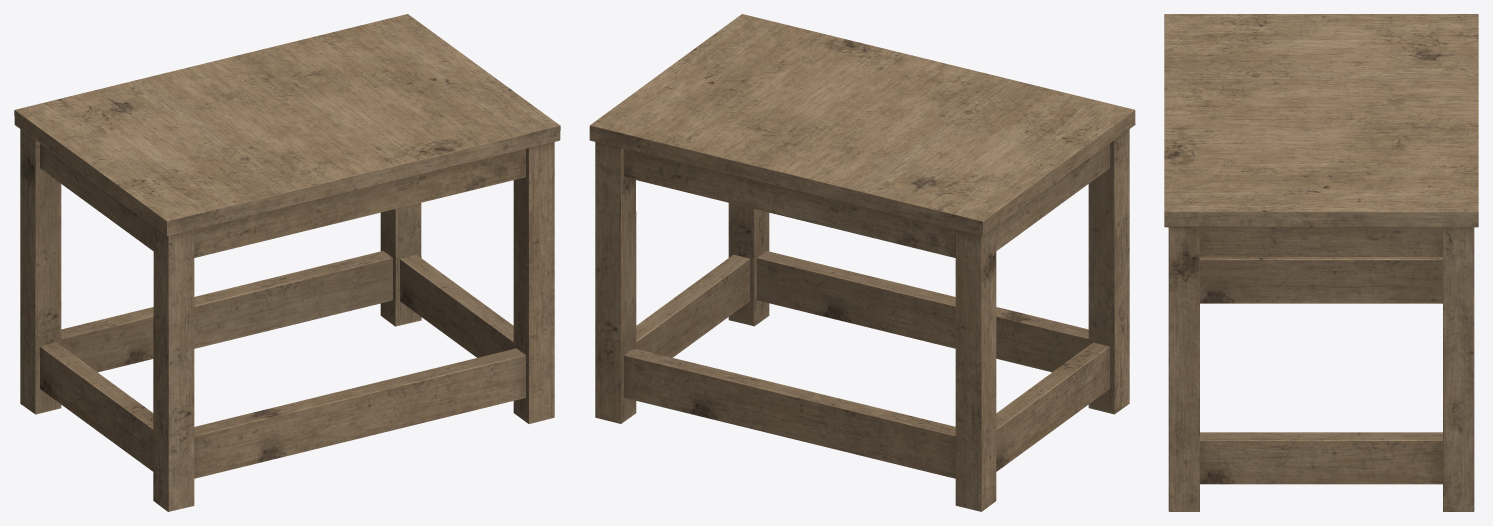
The model's file is SM_Tall_Workbench.glb.
3 renders of one model, left to right at view 1: azimuth 30°, elevation 25°; view 2: azimuth 150°, elevation 25°; view 3: azimuth 270°, elevation 25°, orthographic. The views are drawn at different scales.
Visible parts, largest first — view 1: SM_Tall_Workbench; view 2: SM_Tall_Workbench; view 3: SM_Tall_Workbench.
Boxes of the visible parts, <box> form: SM_Tall_Workbench: <box>14,14,560,511</box>; SM_Tall_Workbench: <box>589,14,1135,511</box>; SM_Tall_Workbench: <box>1164,14,1478,511</box>.
Size of the model in its own units: 1.53 by 1.09 by 1.03.
Materials: 1 (1 with a texture image).
